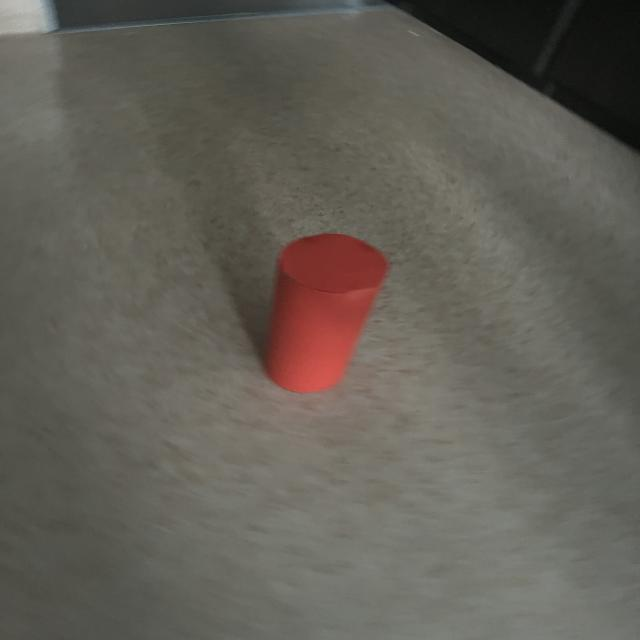przeszkoda: (266, 234, 388, 392)
